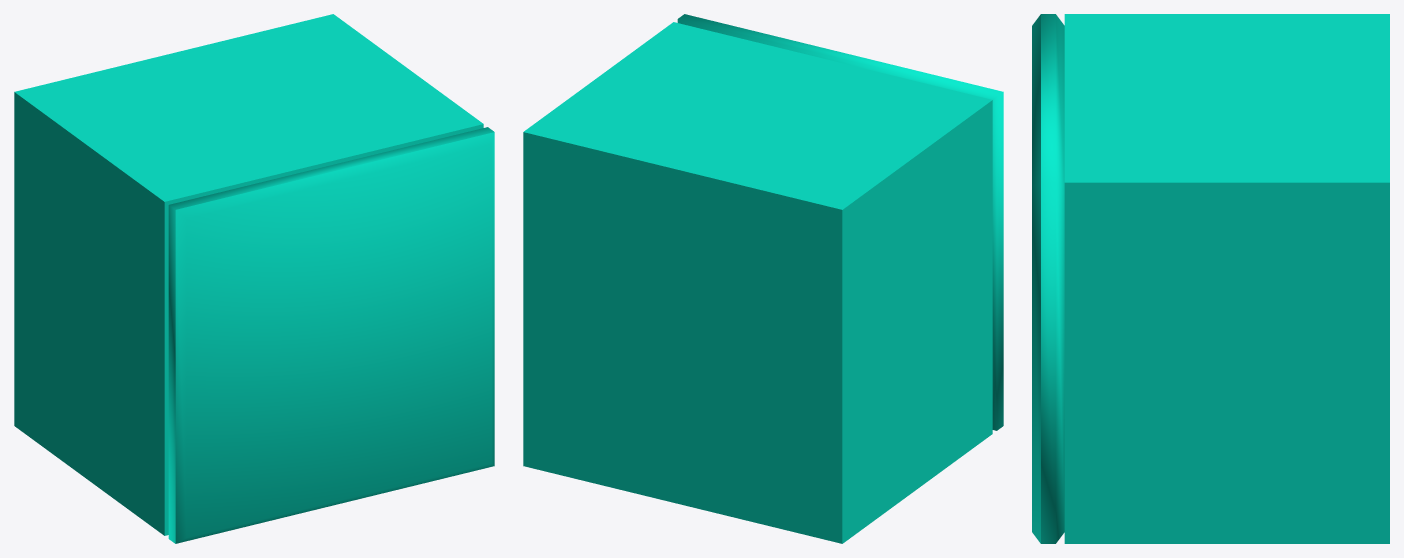
Rendered from MiniFreezer.fbx.
3 renders of one model, left to right at view 1: azimuth 30°, elevation 25°; view 2: azimuth 150°, elevation 25°; view 3: azimuth 270°, elevation 25°, orthographic. The views are drawn at different scales.
Parts seen in each view (by area): view 1: MiniFreezerDoor, MiniFreezer; view 2: MiniFreezer, MiniFreezerDoor; view 3: MiniFreezer, MiniFreezerDoor.
Boxes of the visible parts, <box> form: MiniFreezerDoor: <box>168,127,494,543</box>; MiniFreezer: <box>14,14,483,535</box>; MiniFreezer: <box>523,22,992,543</box>; MiniFreezerDoor: <box>677,14,1003,430</box>; MiniFreezer: <box>1064,14,1389,543</box>; MiniFreezerDoor: <box>1032,14,1064,543</box>.
Size of the model in its own units: 225 by 225 by 202.
